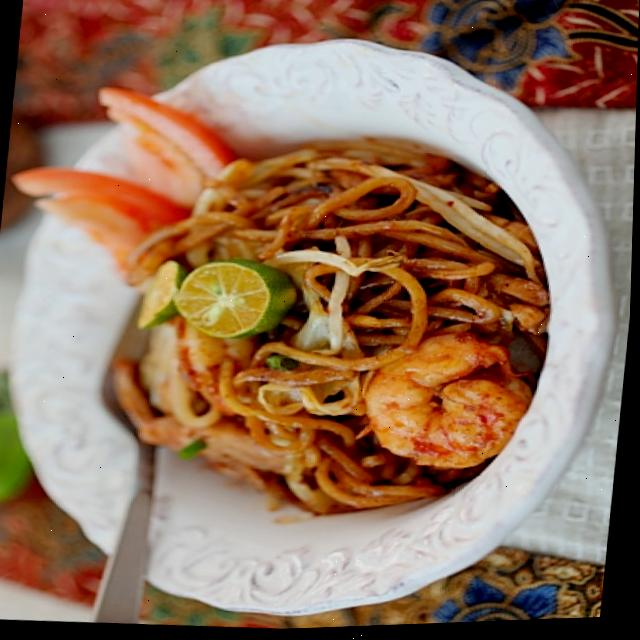面条主食: (0, 22, 614, 630)
